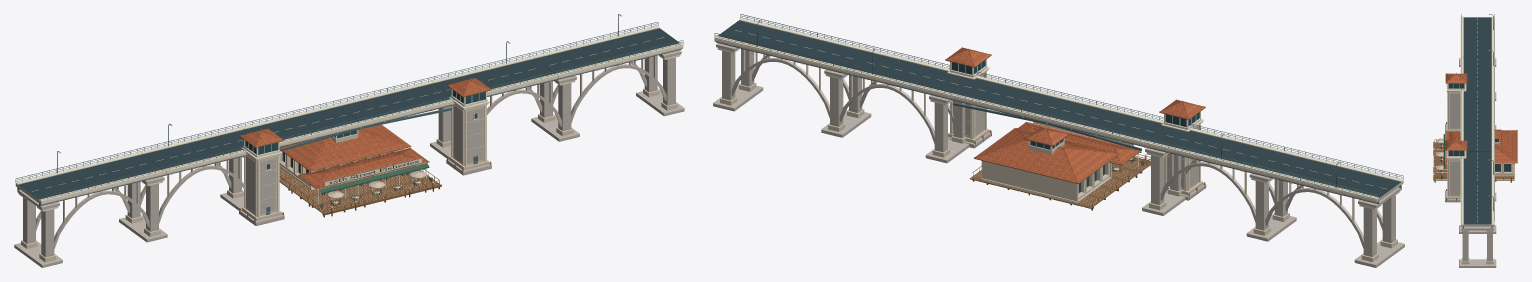
File: landmarks-v1.glb
The picture shows the model from 3 angles, left to right: view 1: azimuth 30°, elevation 25°; view 2: azimuth 150°, elevation 25°; view 3: azimuth 270°, elevation 25°; orthographic projection. The views are drawn at different scales.
Visible parts, largest first — view 1: BridgeCauseway_concrete, BridgeCauseway_navy, BridgeCauseway_trim, BridgeCauseway_metal, FisheriesRestaurant_terracotta, FisheriesRestaurant_teak, BridgeCauseway_stucco, FisheriesRestaurant_trim, BridgeCauseway_terracotta, FisheriesRestaurant_canvas, BridgeCauseway_glazing, FisheriesRestaurant_stucco (+1 smaller); view 2: BridgeCauseway_concrete, BridgeCauseway_navy, BridgeCauseway_trim, BridgeCauseway_metal, FisheriesRestaurant_terracotta, BridgeCauseway_stucco, FisheriesRestaurant_stucco, FisheriesRestaurant_teak, BridgeCauseway_terracotta, FisheriesRestaurant_trim, BridgeCauseway_glazing; view 3: BridgeCauseway_navy, BridgeCauseway_concrete, BridgeCauseway_trim, FisheriesRestaurant_terracotta, FisheriesRestaurant_teak, BridgeCauseway_terracotta, BridgeCauseway_metal, BridgeCauseway_stucco, BridgeCauseway_glazing, FisheriesRestaurant_trim, FisheriesRestaurant_linen, FisheriesRestaurant_stucco (+2 smaller).
Boxes of the visible parts, <box> form: BridgeCauseway_concrete: <box>14,45,684,267</box>; BridgeCauseway_navy: <box>18,28,679,199</box>; BridgeCauseway_trim: <box>15,26,683,217</box>; BridgeCauseway_metal: <box>15,14,683,220</box>; FisheriesRestaurant_terracotta: <box>279,124,432,208</box>; FisheriesRestaurant_teak: <box>279,146,441,217</box>; BridgeCauseway_stucco: <box>21,56,677,262</box>; FisheriesRestaurant_trim: <box>279,130,439,208</box>; BridgeCauseway_terracotta: <box>239,77,491,147</box>; FisheriesRestaurant_canvas: <box>319,163,432,206</box>; BridgeCauseway_glazing: <box>245,90,485,169</box>; FisheriesRestaurant_stucco: <box>279,133,426,204</box>; BridgeCauseway_concrete: <box>713,38,1404,267</box>; BridgeCauseway_navy: <box>718,20,1400,197</box>; BridgeCauseway_trim: <box>714,18,1403,209</box>; BridgeCauseway_metal: <box>714,14,1403,203</box>; FisheriesRestaurant_terracotta: <box>974,122,1144,183</box>; BridgeCauseway_stucco: <box>720,49,1397,262</box>; FisheriesRestaurant_stucco: <box>982,141,1138,201</box>; FisheriesRestaurant_teak: <box>969,134,1150,210</box>; BridgeCauseway_terracotta: <box>945,47,1205,119</box>; FisheriesRestaurant_trim: <box>981,121,1146,203</box>; BridgeCauseway_glazing: <box>951,60,1199,126</box>; BridgeCauseway_navy: <box>1463,17,1491,224</box>; BridgeCauseway_concrete: <box>1445,17,1496,267</box>; BridgeCauseway_trim: <box>1446,16,1494,231</box>; FisheriesRestaurant_terracotta: <box>1441,129,1517,178</box>; FisheriesRestaurant_teak: <box>1433,130,1516,182</box>; BridgeCauseway_terracotta: <box>1445,73,1467,150</box>; BridgeCauseway_metal: <box>1446,14,1494,228</box>; BridgeCauseway_stucco: <box>1447,92,1493,264</box>; BridgeCauseway_glazing: <box>1448,83,1464,155</box>; FisheriesRestaurant_trim: <box>1433,130,1513,176</box>; FisheriesRestaurant_linen: <box>1436,138,1445,173</box>; FisheriesRestaurant_stucco: <box>1495,142,1512,175</box>.
Bounding box in the file's own units: 190 × 25.28 × 32.73.
12 materials, 4 textured.
